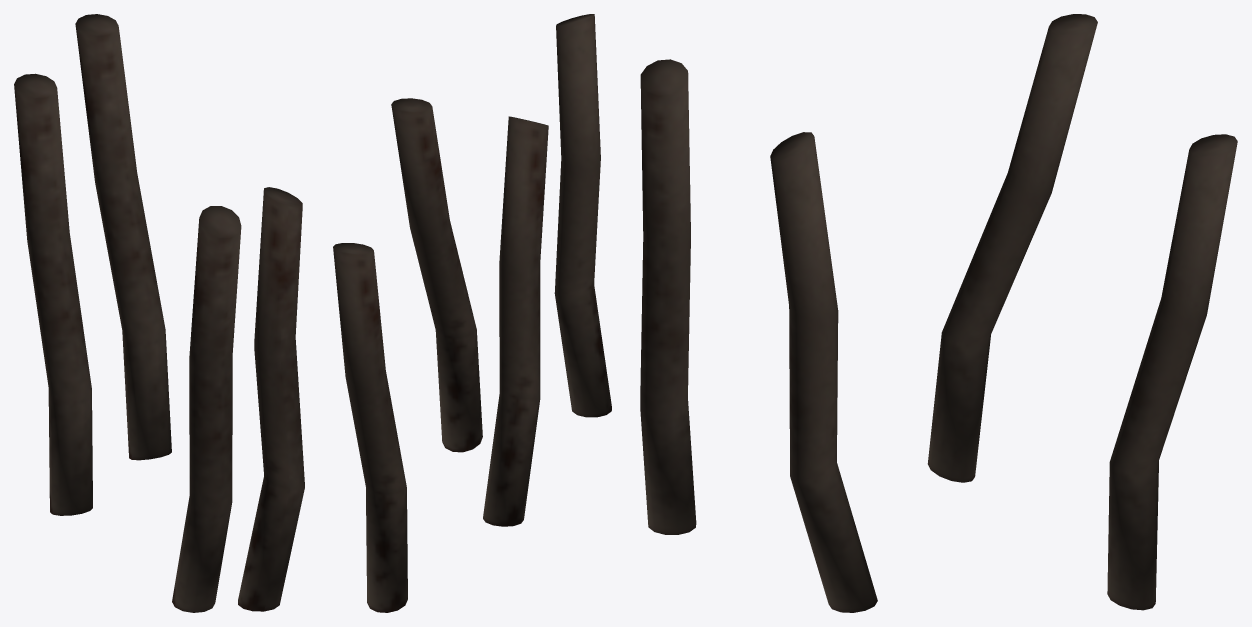
Rendered from BLD_Wire.fbx.
The picture shows the model from 3 angles, left to right: view 1: azimuth 30°, elevation 25°; view 2: azimuth 150°, elevation 25°; view 3: azimuth 270°, elevation 25°; orthographic projection. The views are drawn at different scales.
Parts seen in each view (by area): view 1: wires; view 2: wires; view 3: wires.
Boxes of the visible parts, x1,y1,x2,y2 form: wires: (14, 14, 304, 612); wires: (333, 14, 611, 612); wires: (640, 14, 1237, 612).
Size of the model in its own units: 33.22 by 279 by 260.
1 material, 1 textured.
